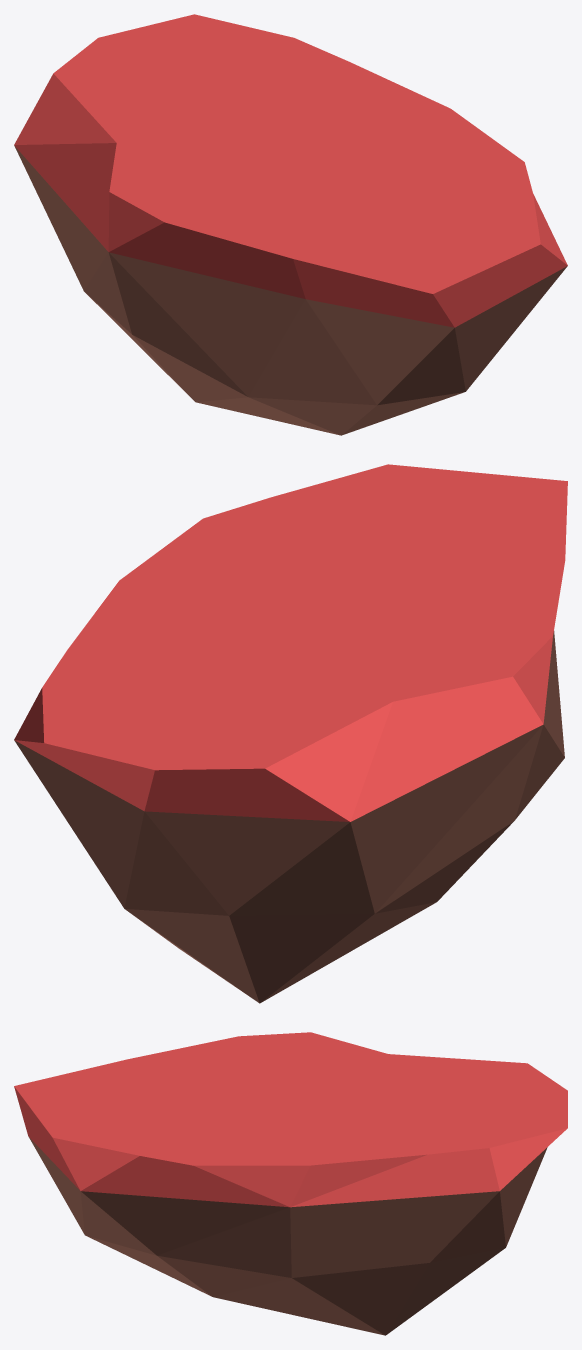
The model's file is 01_02Island_Red.fbx.
3 renders of one model, top to bottom at view 1: azimuth 30°, elevation 25°; view 2: azimuth 150°, elevation 25°; view 3: azimuth 270°, elevation 25°, orthographic. The views are drawn at different scales.
Parts seen in each view (by area): view 1: Icosphere.022; view 2: Icosphere.022; view 3: Icosphere.022.
Part boxes in pixels (x1,y1,x2,y2): Icosphere.022: (14, 14, 567, 435); Icosphere.022: (14, 464, 567, 1003); Icosphere.022: (14, 1032, 567, 1335).
Bounding box in the file's own units: 171 × 117 × 281.
